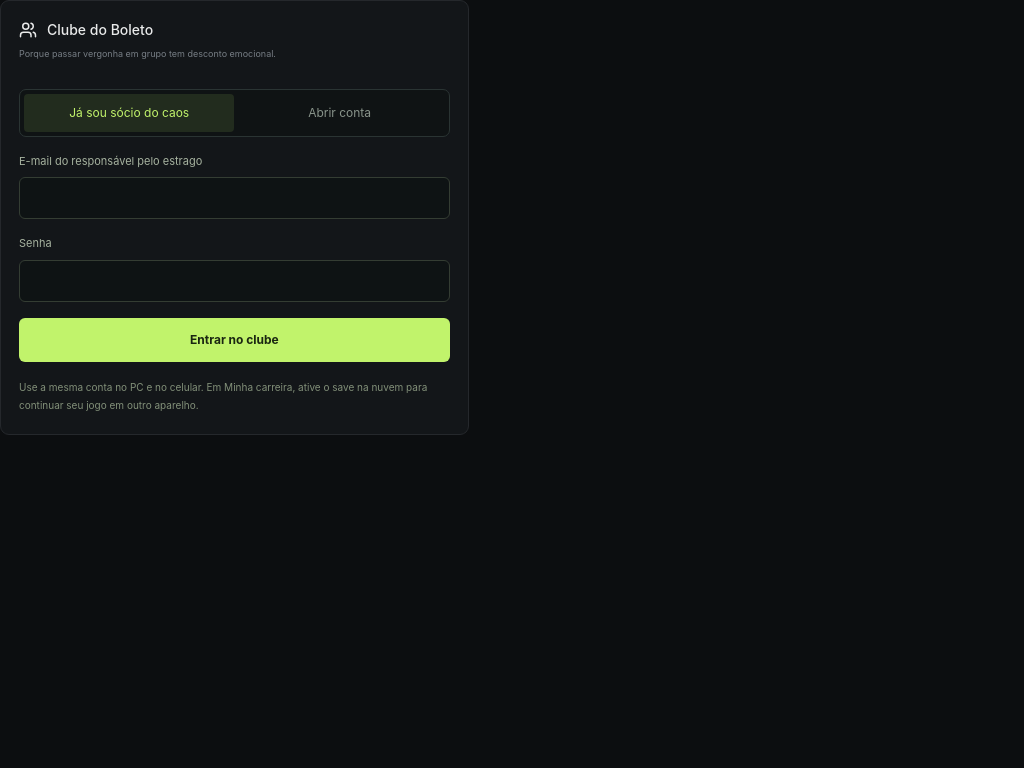
Test: login e convite sem avisos antigos › resposta atrasada do cadastro não recoloca o aviso depois de login
The width and height of the screenshot is (1024, 768).
Step 1. Click the button "Abrir conta" → (340, 112), box [234, 94, 445, 132]
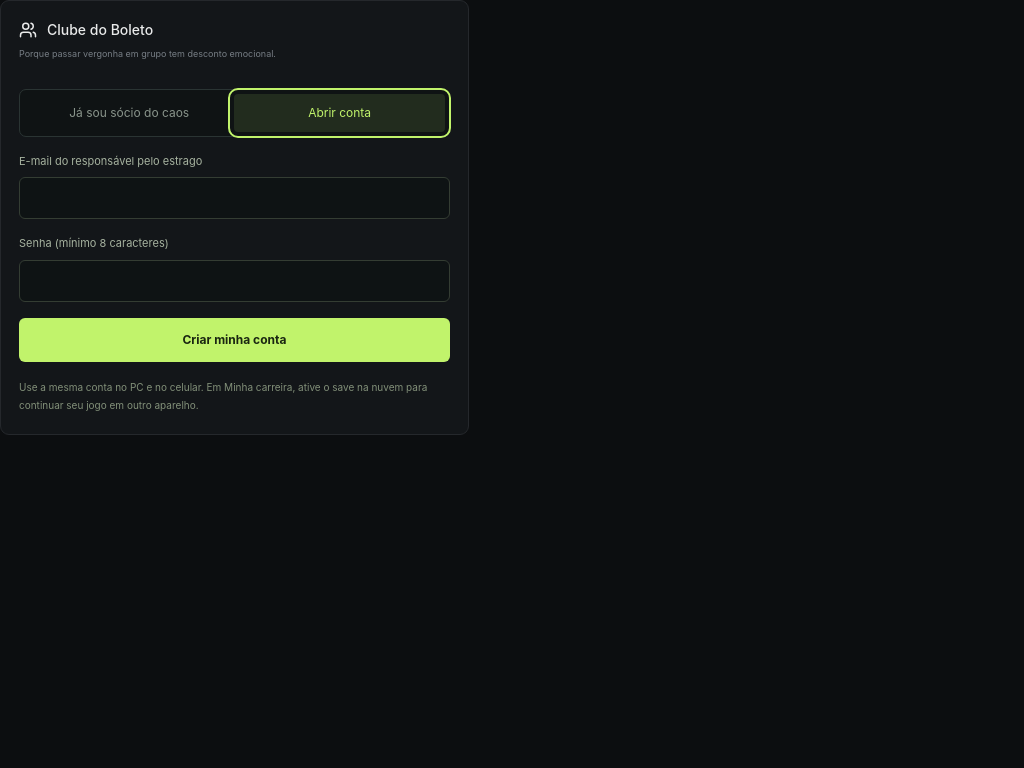
Step 2. Type "conta@example.invalid" into the field labelled "E-mail do responsável pelo estrago" → (234, 198), box [19, 177, 450, 219]
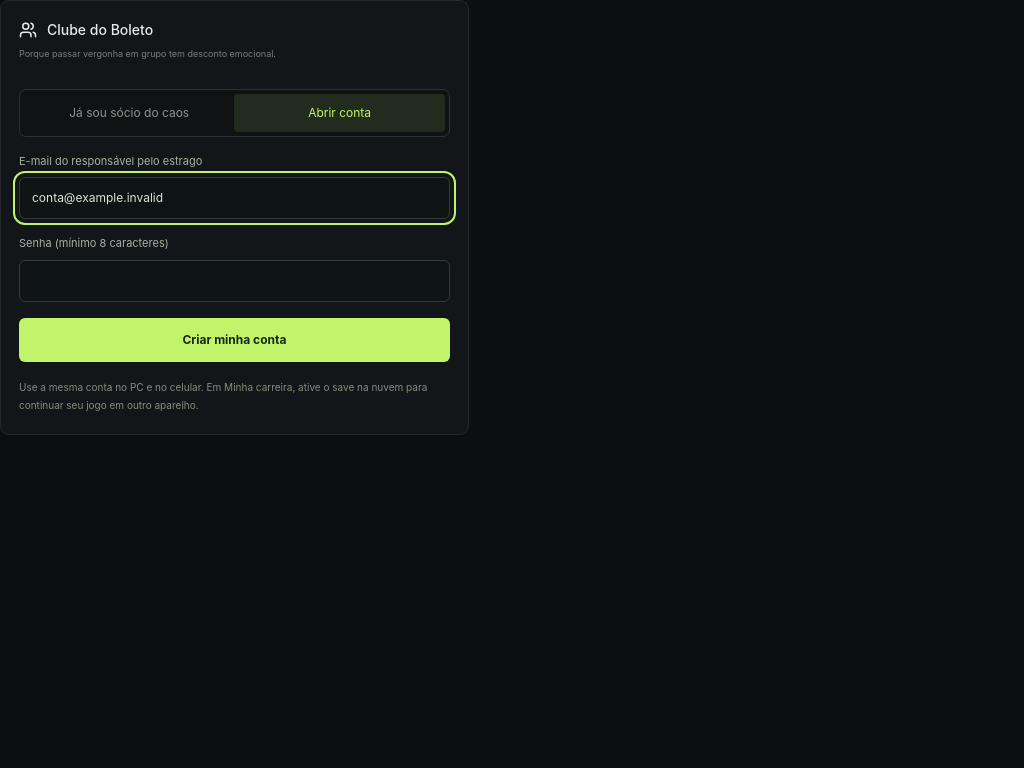
Step 3. Type "senha-ficticia-123" into the password field labelled "Senha (mínimo 8 caracteres)" → (234, 280), box [19, 260, 450, 302]
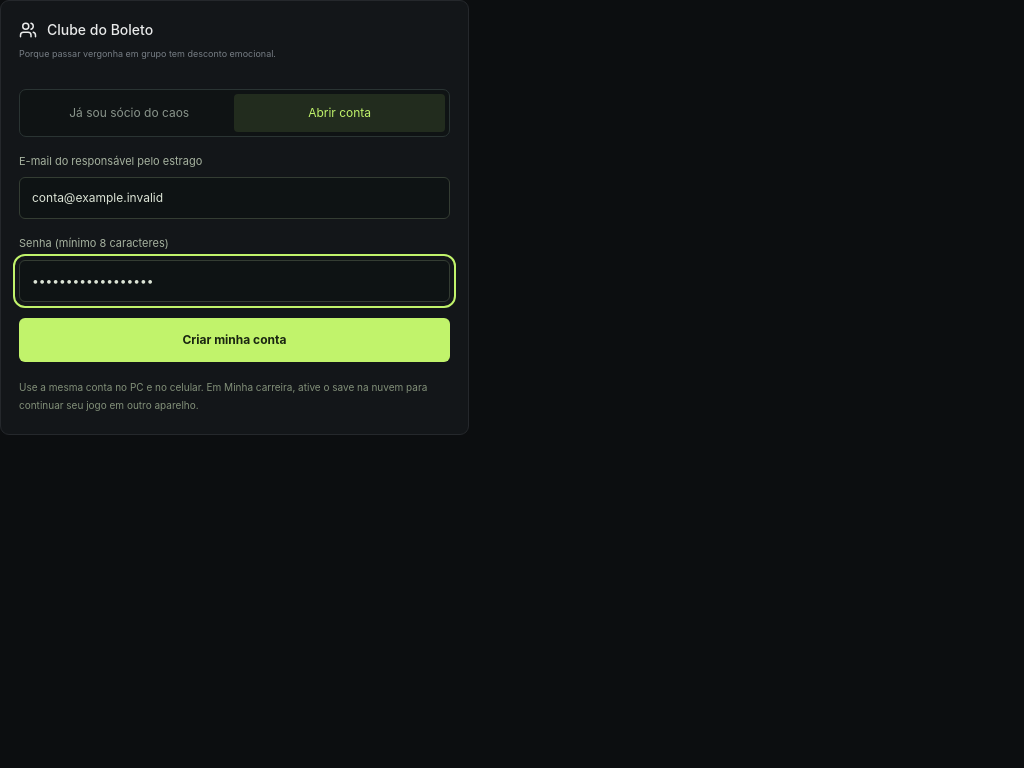
Step 4. Click the button "Criar minha conta" → (234, 340), box [19, 318, 450, 362]
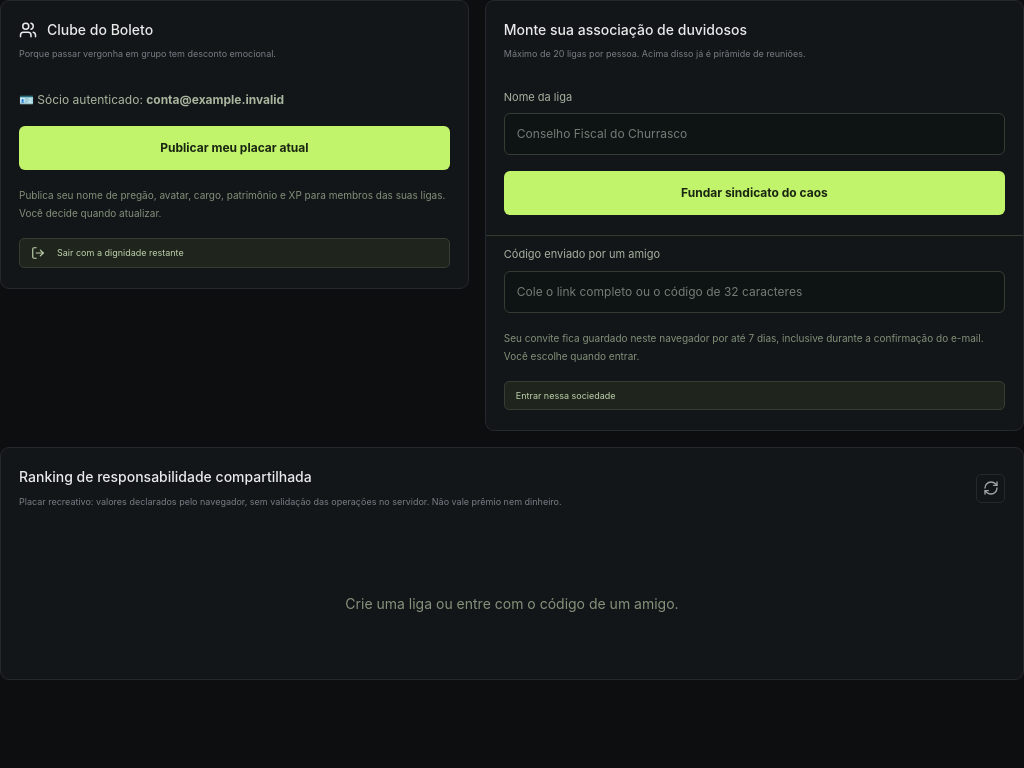
Check: the text "conta@example.invalid" is shown, box [146, 92, 284, 106]
